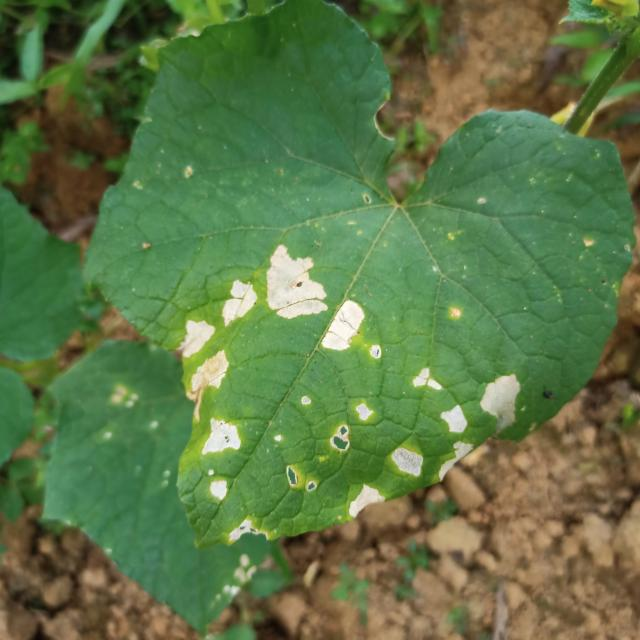disease_cucumber: (266, 240, 364, 360), (411, 364, 521, 442), (178, 316, 230, 394), (201, 415, 243, 503), (392, 439, 469, 480), (333, 398, 374, 452), (222, 278, 257, 327), (346, 483, 384, 516)
